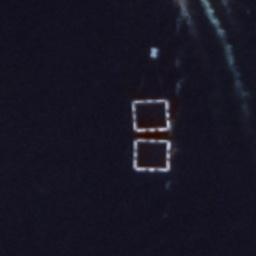square_solid: (131, 136, 176, 176), (129, 97, 172, 135)
